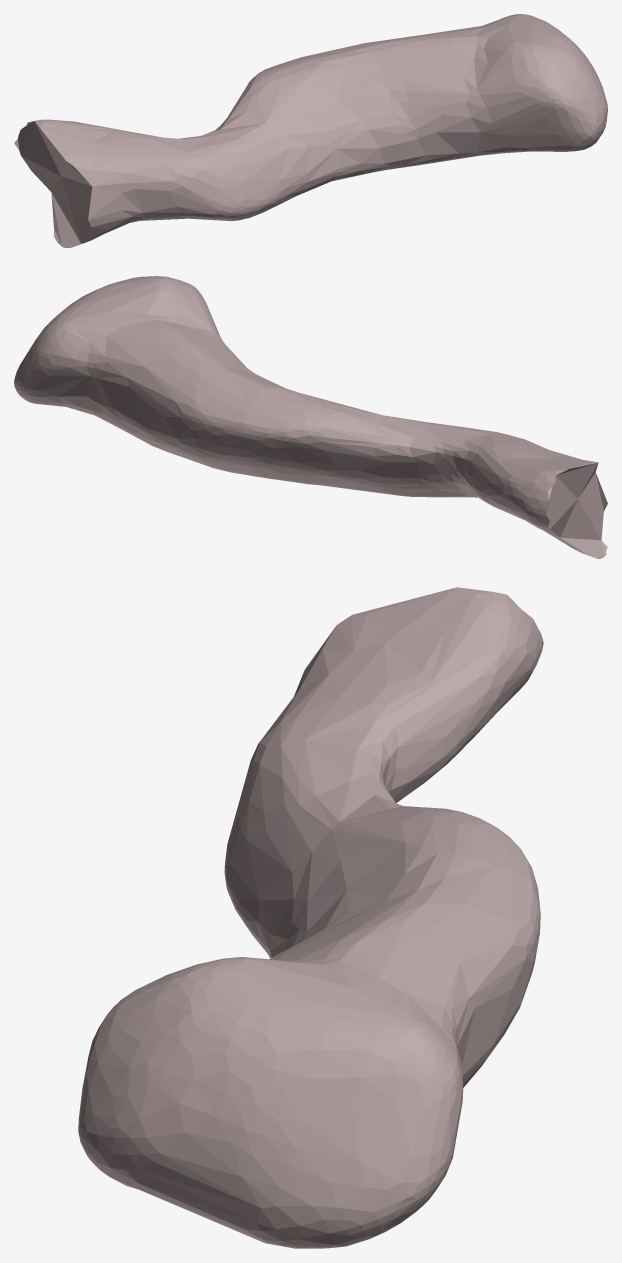
Rendered from Anterior_commissure1.obj.
3 renders of one model, top to bottom at view 1: azimuth 30°, elevation 25°; view 2: azimuth 150°, elevation 25°; view 3: azimuth 270°, elevation 25°, orthographic. The views are drawn at different scales.
Parts seen in each view (by area): view 1: obj0; view 2: obj0; view 3: obj0.
Boxes of the visible parts, x1,y1,x2,y2 form: obj0: (14, 14, 607, 247); obj0: (14, 276, 607, 558); obj0: (78, 587, 543, 1248).
Bounding box in the file's own units: 5.82 × 1.26 × 2.24.
1 material, 1 textured.
